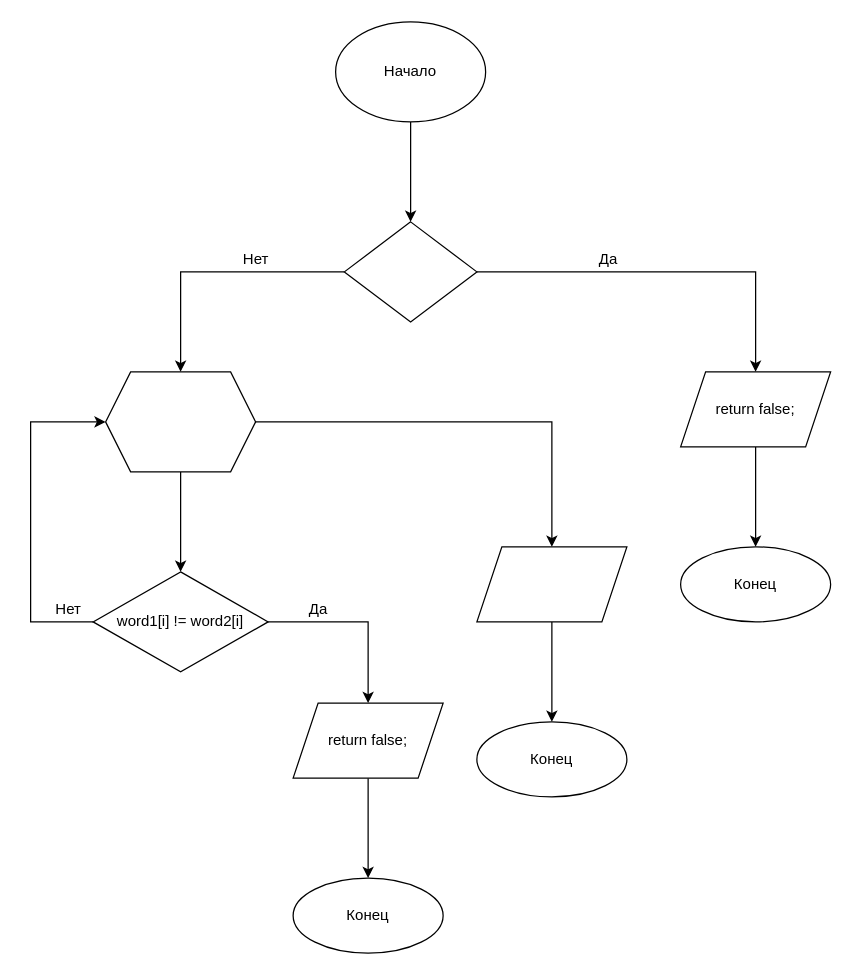
Some shapes in this 853 by 975 pixel diagram are drawn without their labels. Each missing label, with the box of its shape:
int i = 0; i < size1; i++: (104, 371, 256, 472)
return true;: (476, 546, 627, 622)
size1 != size2: (343, 221, 477, 322)
